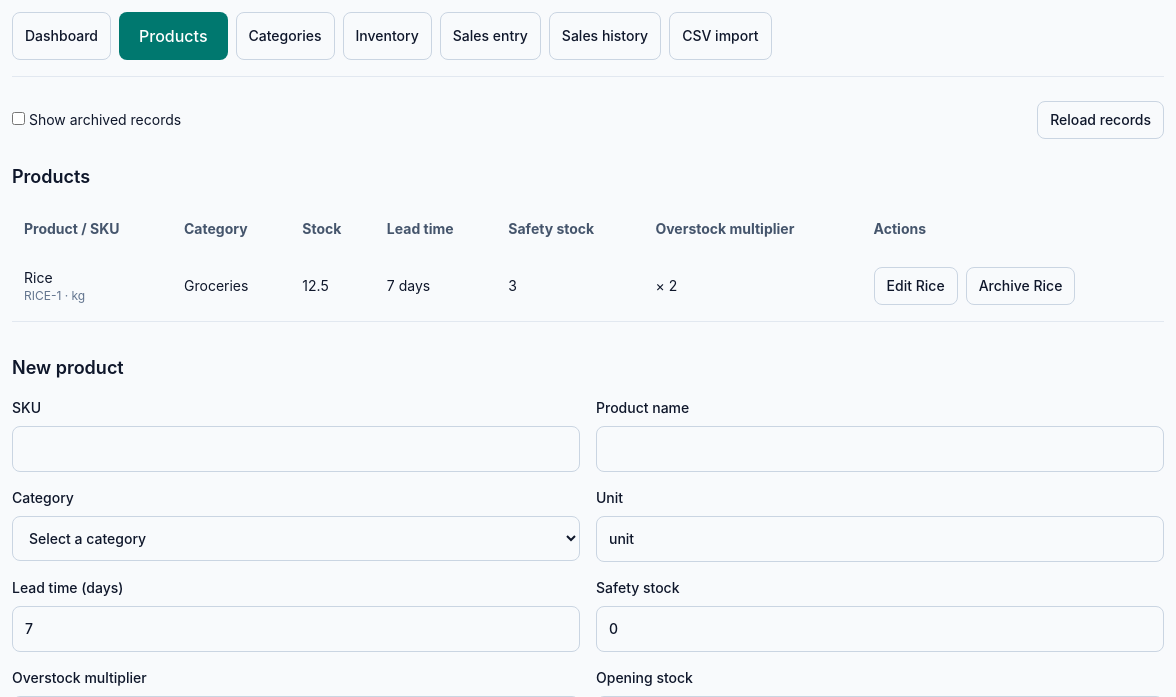
Test: inventory adjustment sends quantities, reason and loaded version
Check: the button "Edit Rice" is shown, box x1=874 y1=267 x2=958 y2=305
Click the button "Inventory": (387, 36) x1=342 y1=12 x2=432 y2=60
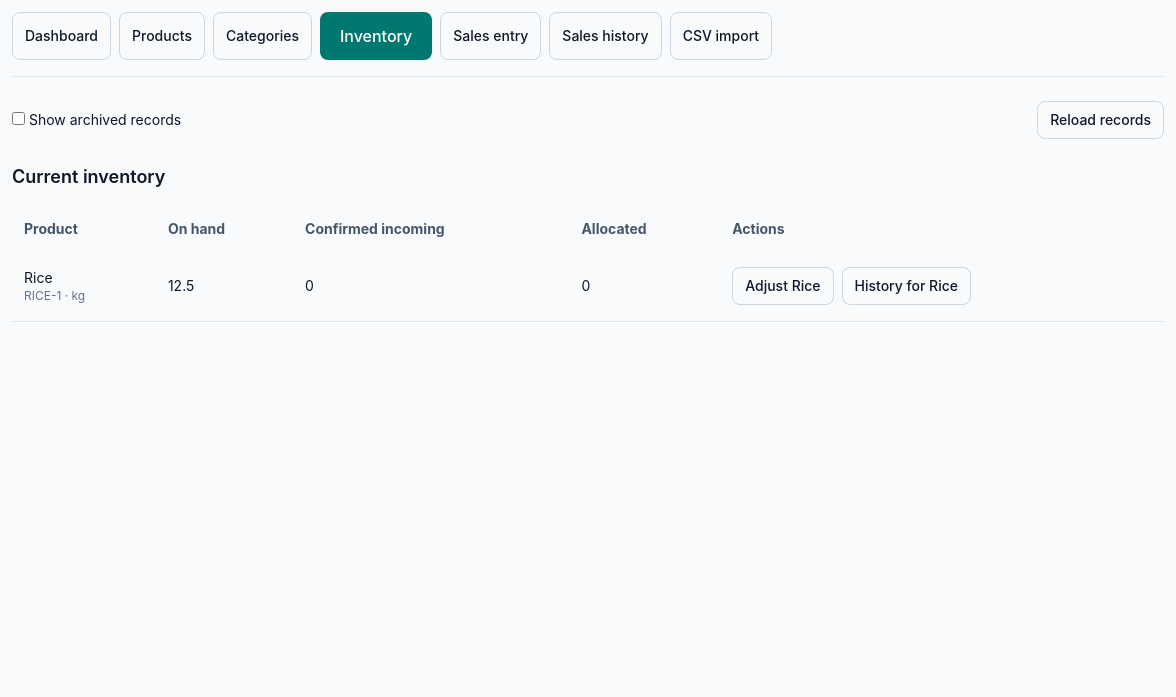
Click the button "Adjust Rice": (783, 286) x1=732 y1=267 x2=834 y2=305
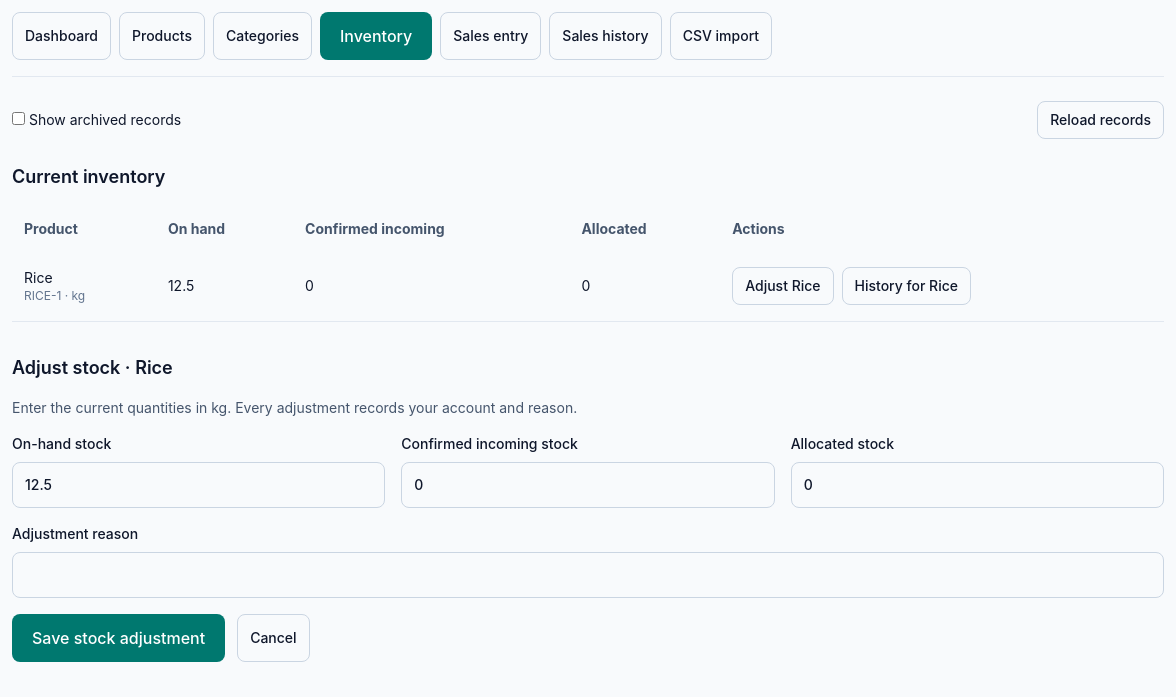
Replace the text in the number field labelled "On-hand stock" with "20": (199, 485) x1=12 y1=462 x2=385 y2=508
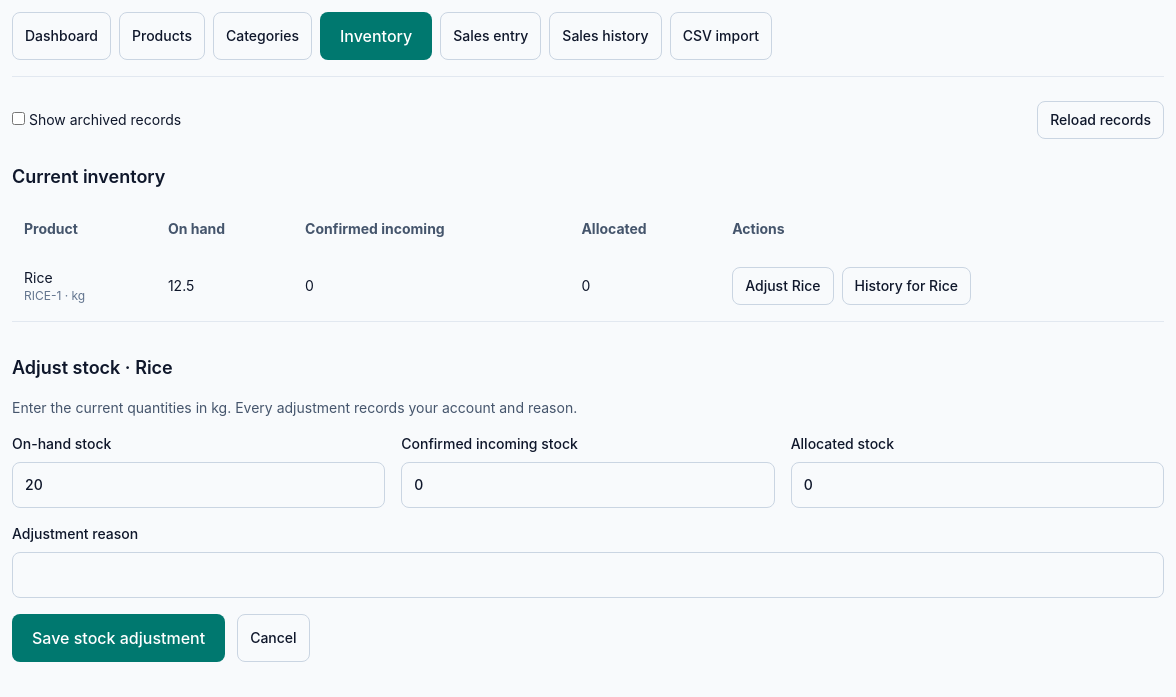
In the field labelled "Adjustment reason": (588, 575) x1=12 y1=552 x2=1164 y2=598, type "Physical stock count"
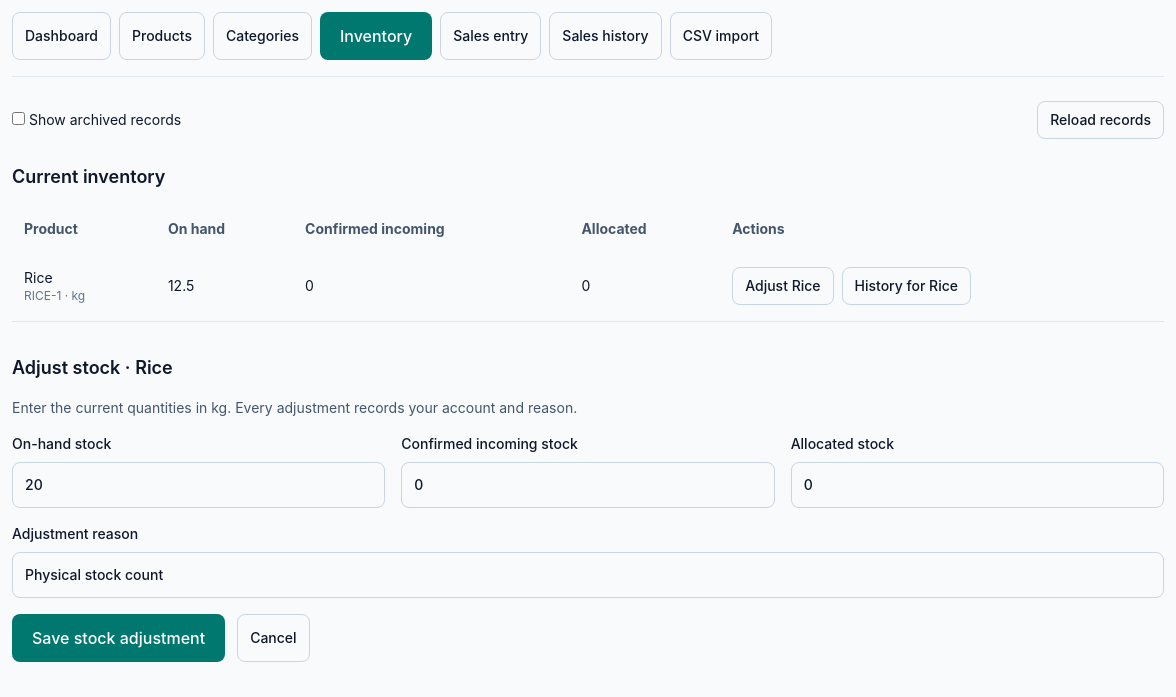
Click the button "Save stock adjustment": (119, 638) x1=12 y1=614 x2=225 y2=662
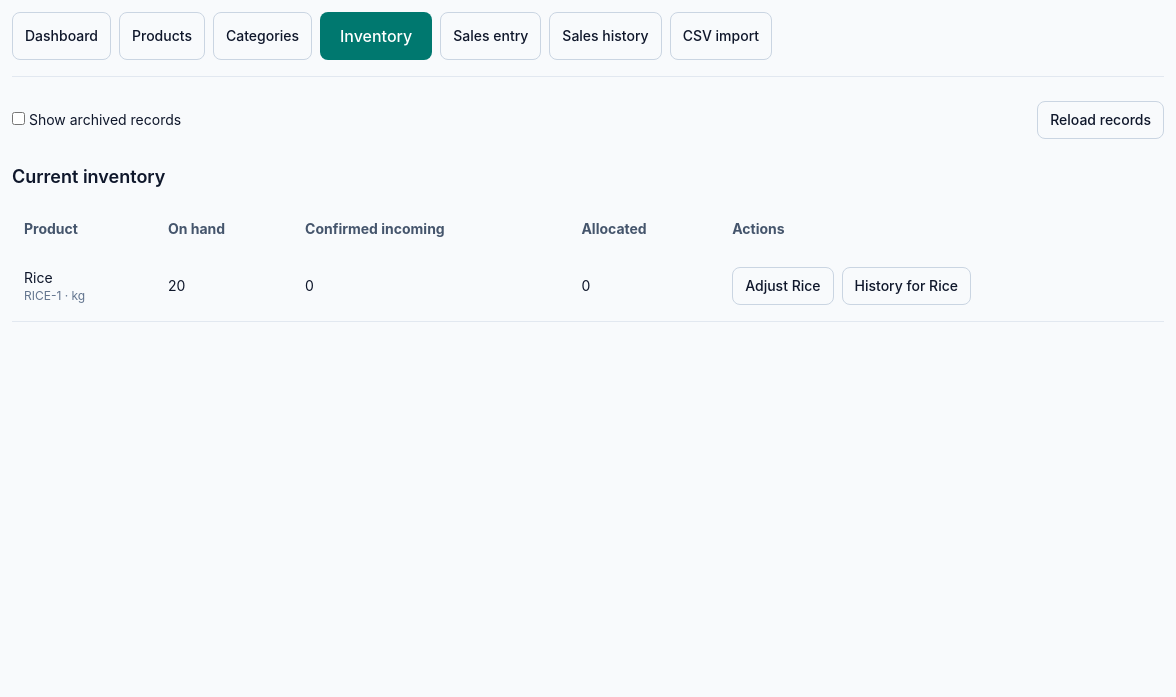
Check: the form "Inventory form" is gone
